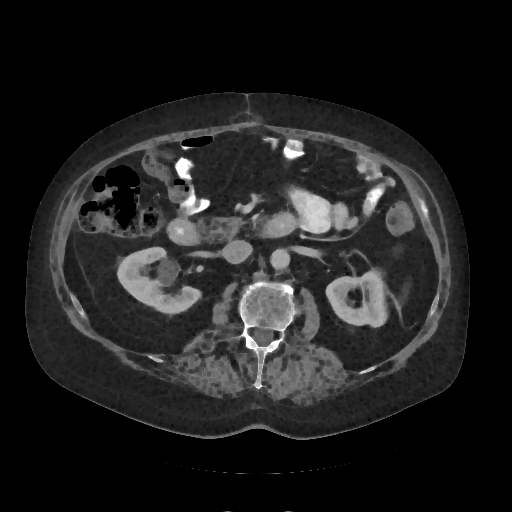Lesion: (154, 256, 178, 288)
